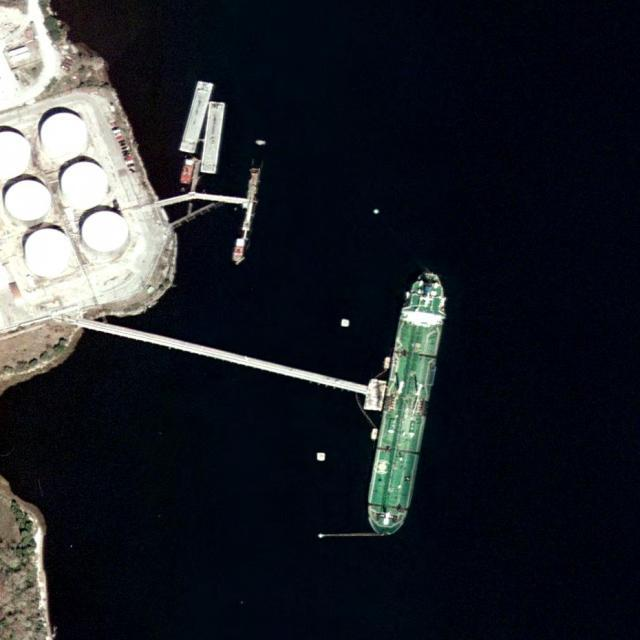Dock: (79, 312, 387, 412)
Oil Tanker: (361, 264, 456, 541)
Other Ship: (178, 158, 195, 186)
